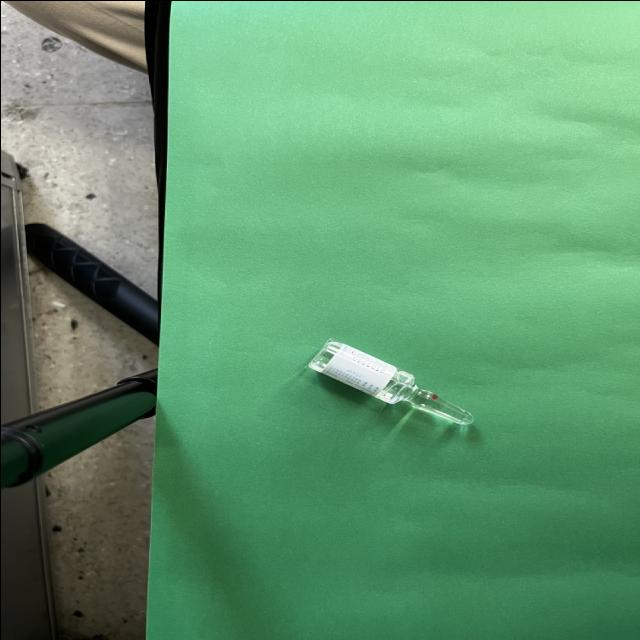Ampoules: (308, 338, 471, 424)
